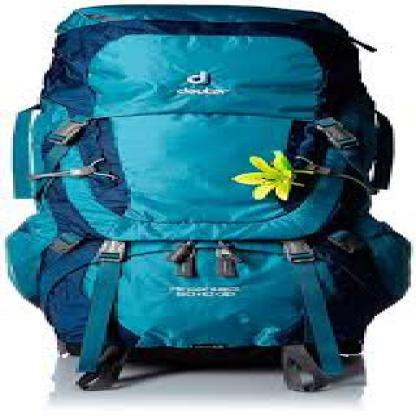morral: (2, 2, 414, 396)
